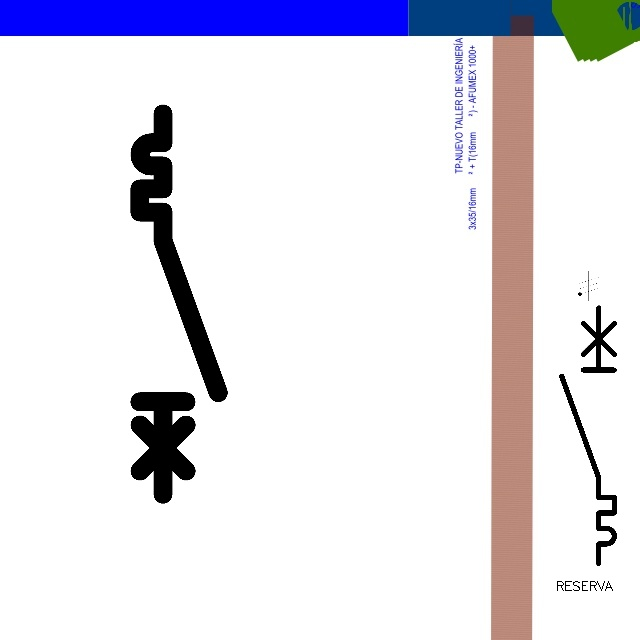interruptor_termomagnetico: (130, 104, 228, 504), (555, 301, 621, 570)
